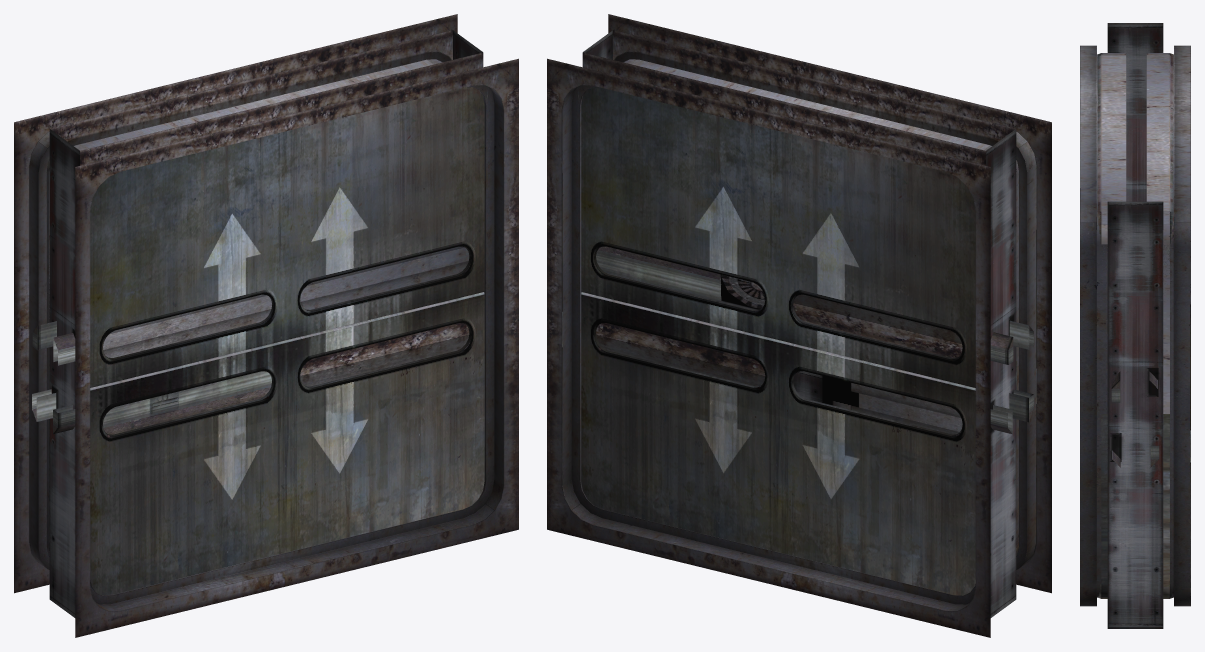
Rendered from security_door.glb.
3 views of the same model, side by side, from view 1: azimuth 30°, elevation 25°; view 2: azimuth 150°, elevation 25°; view 3: azimuth 270°, elevation 25° (orthographic). The views are drawn at different scales.
Parts seen in each view (by area): view 1: Object_2, Object_3; view 2: Object_2, Object_3; view 3: Object_2.
Part boxes in pixels (box(x1,y1,x2,y2)): Object_2: box(14, 14, 518, 637); Object_3: box(103, 246, 469, 434); Object_2: box(547, 14, 1051, 637); Object_3: box(596, 246, 962, 434); Object_2: box(1080, 23, 1190, 628).
Bounding box in the file's own units: 378 × 383 × 90.07.
Materials: 2 (2 with a texture image).
